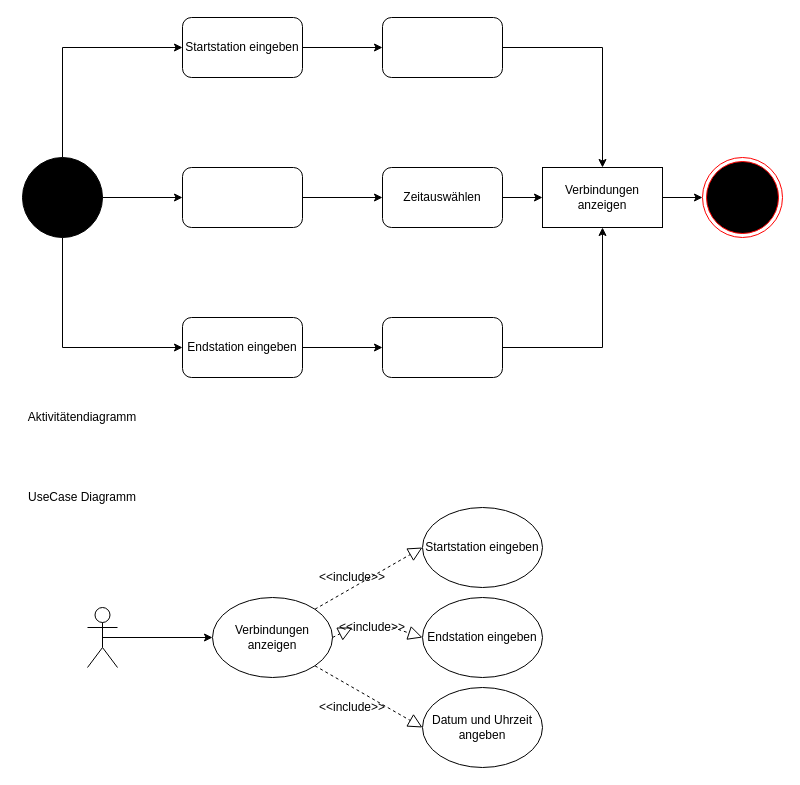
This 800x785 diagram has some shape labels left out. The shapes that lost their labels are listed below. From the top down, each one's box as (x1, y1, x2, y2) in pixels, then its label:
(382, 16, 502, 78): Startstationvorschläge anzeigen
(182, 166, 302, 228): Datum auswählen
(382, 316, 502, 378): Endstationvorschläge anzeigen
(86, 606, 118, 668): Actor
